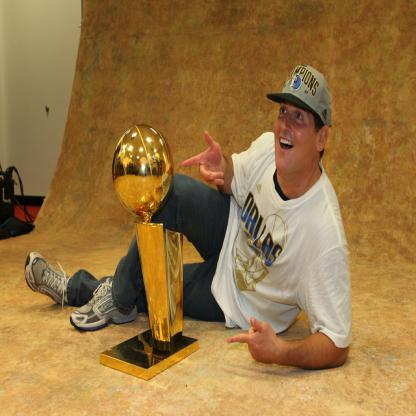Ball: (111, 124, 173, 218)
